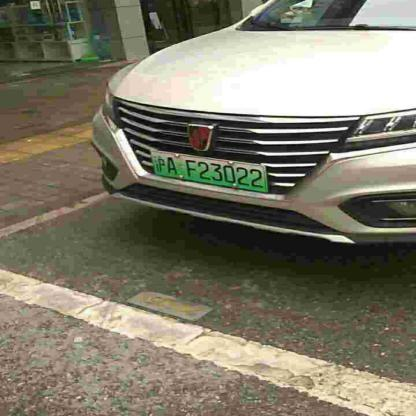lp: (149, 150, 267, 192)
